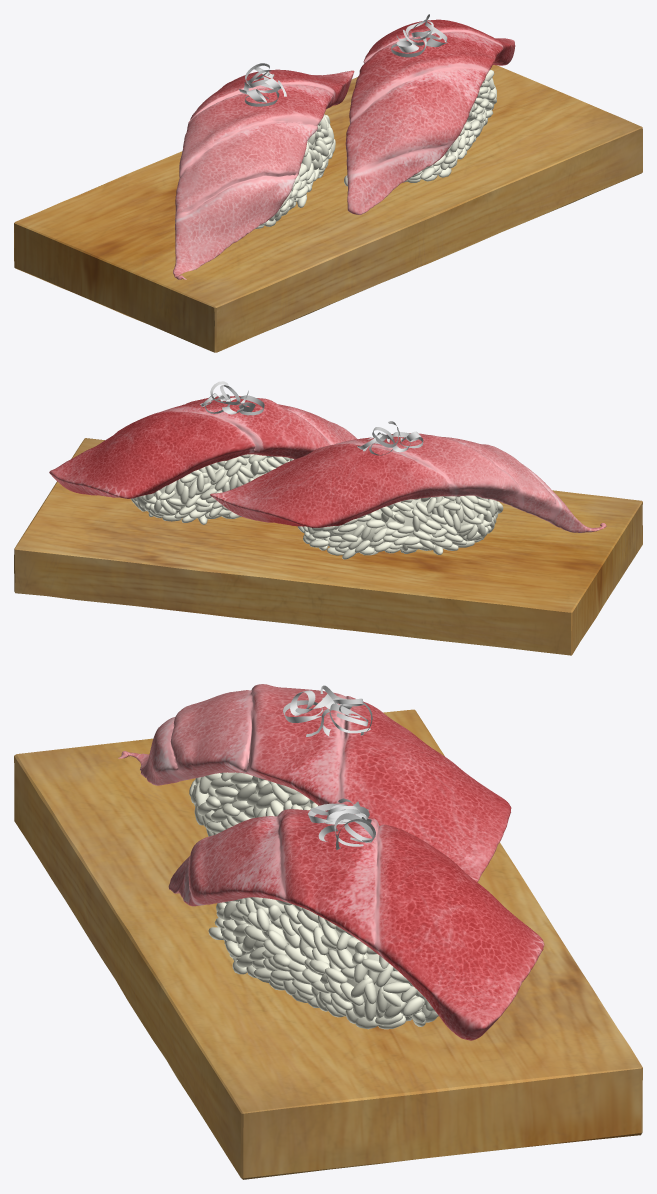
Rendered from toro.fbx.
3 views of the same model, one above another, from view 1: azimuth 30°, elevation 25°; view 2: azimuth 150°, elevation 25°; view 3: azimuth 270°, elevation 25° (orthographic). The views are drawn at different scales.
Visible parts, largest first — view 1: wood, toro2, toro1, rice1, rice2, shallot1, shallot2; view 2: wood, toro2, toro1, rice2, rice1, shallot1, shallot2; view 3: wood, toro1, toro2, rice1, rice2, shallot2, shallot1.
Boxes of the visible parts, x1,y1,x2,y2 form: wood: [14, 65, 642, 352]; toro2: [173, 69, 354, 279]; toro1: [345, 19, 515, 214]; rice1: [344, 70, 496, 186]; rice2: [255, 114, 335, 228]; shallot1: [391, 14, 447, 57]; shallot2: [239, 63, 286, 106]; wood: [14, 438, 642, 655]; toro2: [210, 433, 606, 532]; toro1: [49, 396, 356, 498]; rice2: [297, 495, 503, 559]; rice1: [131, 454, 293, 524]; shallot1: [200, 381, 264, 415]; shallot2: [357, 421, 423, 455]; wood: [14, 709, 642, 1179]; toro1: [168, 809, 544, 1040]; toro2: [118, 684, 511, 882]; rice1: [208, 897, 438, 1029]; rice2: [189, 772, 318, 836]; shallot2: [283, 685, 372, 736]; shallot1: [308, 798, 375, 849].
Bounding box in the file's own units: 13.66 × 4.02 × 8.99.
